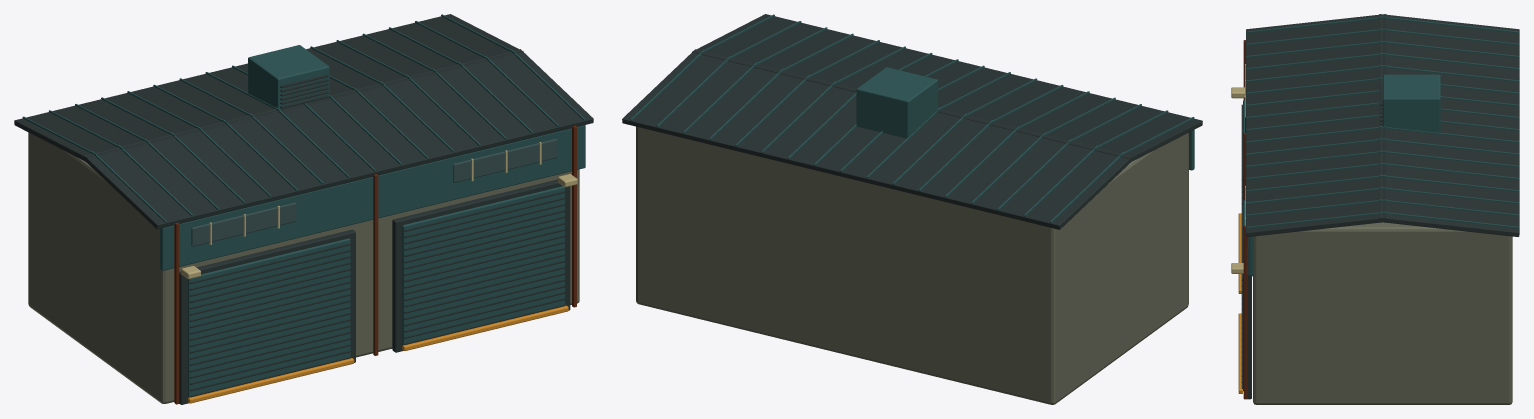
File: workshop.glb
3 views of the same model, side by side, from view 1: azimuth 30°, elevation 25°; view 2: azimuth 150°, elevation 25°; view 3: azimuth 270°, elevation 25° (orthographic). The views are drawn at different scales.
Parts seen in each view (by area): view 1: workshop; view 2: workshop; view 3: workshop.
Boxes of the visible parts, box(x1,y1,x2,y2) form: workshop: box(14, 14, 593, 404); workshop: box(622, 14, 1202, 404); workshop: box(1231, 14, 1519, 404).
Bounding box in the file's own units: 16.7 × 8.5 × 9.99.
